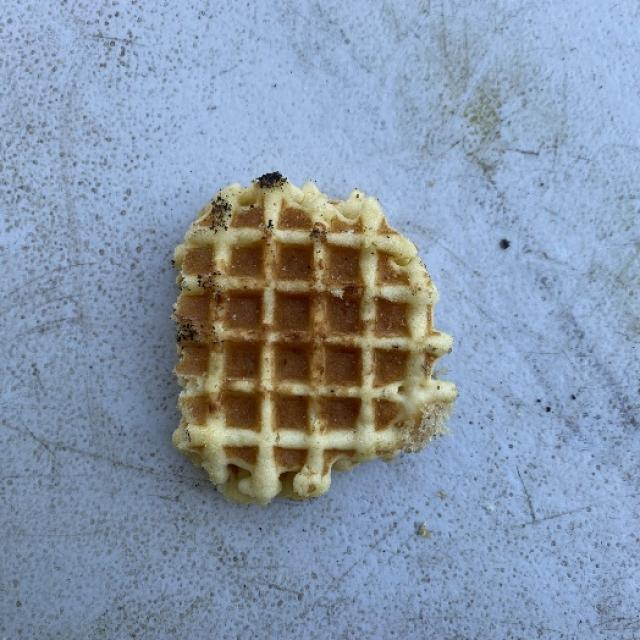organic: (180, 202, 384, 330), (259, 216, 324, 453), (170, 218, 225, 476), (404, 299, 430, 340)
